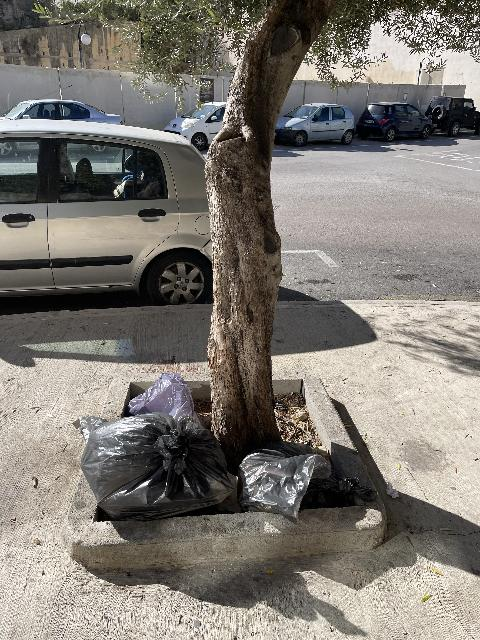Other: (127, 373, 195, 419)
Recyclable -Grey-: (81, 413, 235, 521), (239, 450, 331, 520)
